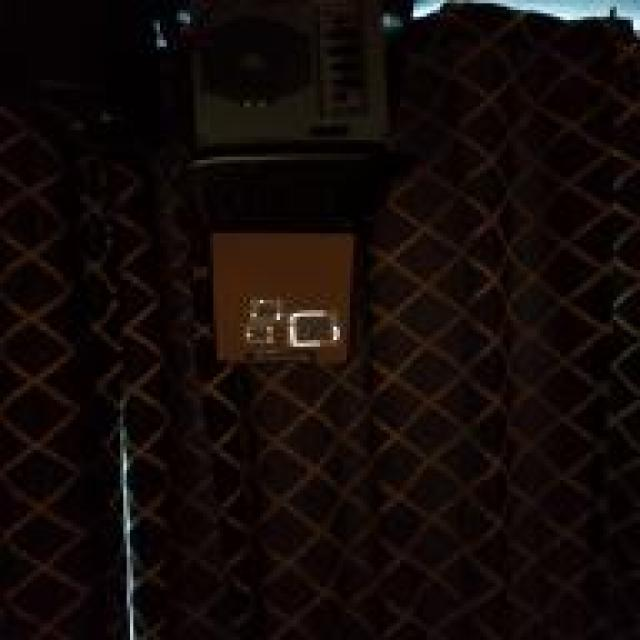QR_CODE: (288, 312, 334, 350), (248, 298, 280, 320), (244, 325, 274, 347)
